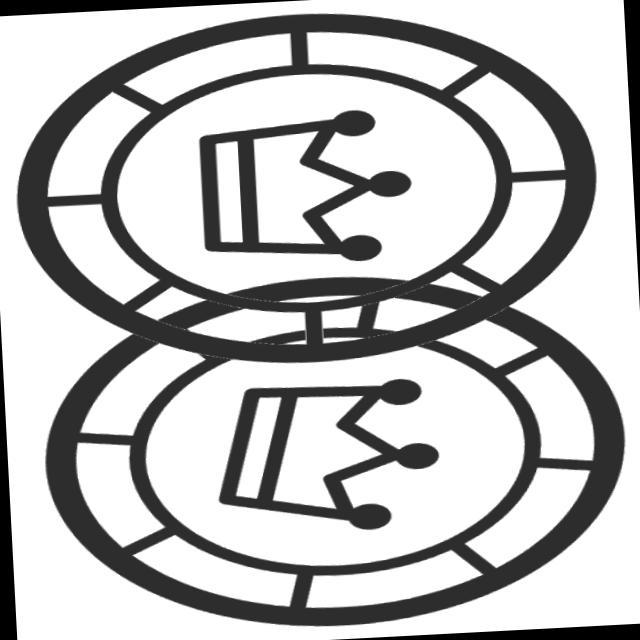coin: (1, 1, 618, 385), (23, 258, 640, 640)
